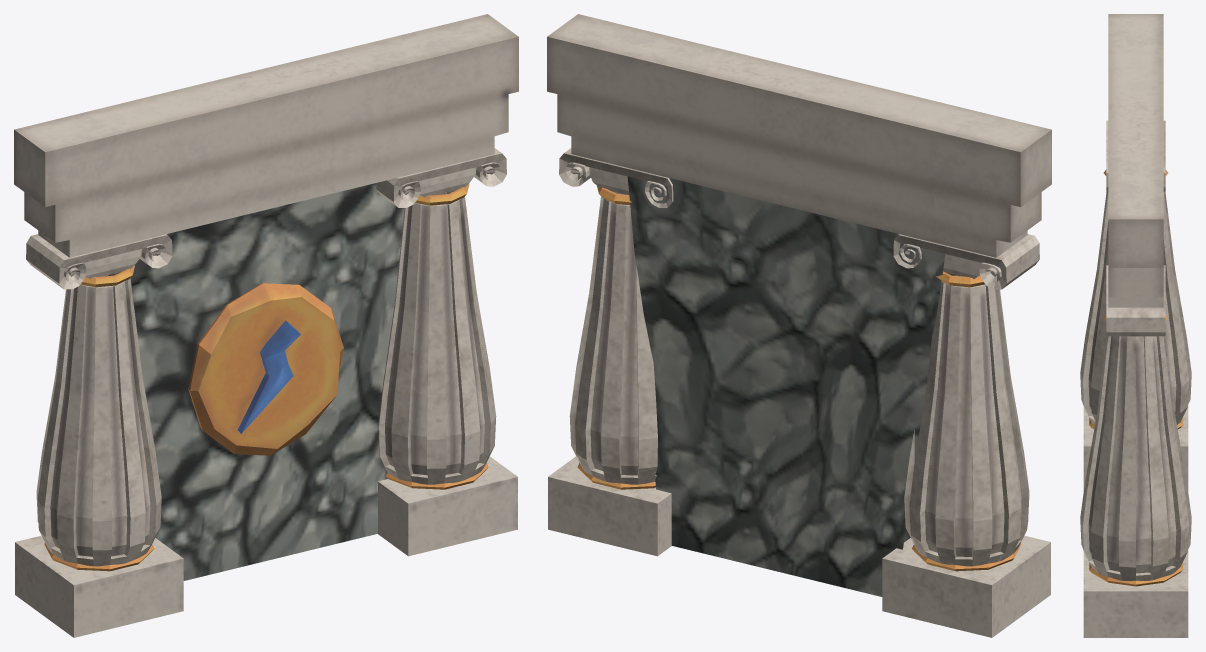
Rendered from gate.fbx.
3 views of the same model, side by side, from view 1: azimuth 30°, elevation 25°; view 2: azimuth 150°, elevation 25°; view 3: azimuth 270°, elevation 25° (orthographic). The views are drawn at different scales.
Parts seen in each view (by area): view 1: polySurface16, polySurface2; view 2: polySurface16, polySurface2; view 3: polySurface16.
Boxes of the visible parts, bbox=[...] form: polySurface16: bbox=[14, 14, 518, 637]; polySurface2: bbox=[109, 183, 404, 580]; polySurface16: bbox=[547, 14, 1051, 637]; polySurface2: bbox=[627, 176, 955, 596]; polySurface16: bbox=[1080, 14, 1191, 637].
Size of the model in its own units: 351 by 339 by 80.69.
1 material, 1 textured.
